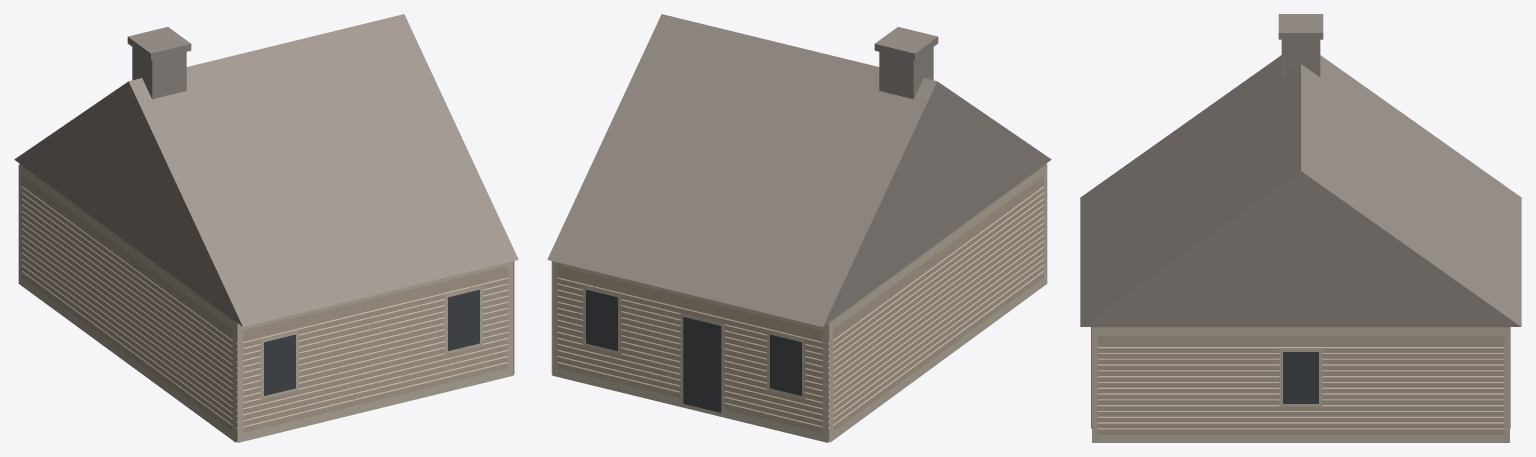
File: recon_1835_north_d5_019__inferred_1835.glb
The picture shows the model from 3 angles, left to right: view 1: azimuth 30°, elevation 25°; view 2: azimuth 150°, elevation 25°; view 3: azimuth 270°, elevation 25°; orthographic projection. The views are drawn at different scales.
Parts seen in each view (by area): view 1: recon_1835_north_d5_019__inferred_1835; view 2: recon_1835_north_d5_019__inferred_1835; view 3: recon_1835_north_d5_019__inferred_1835.
Part boxes in pixels (x1,y1,x2,y2): recon_1835_north_d5_019__inferred_1835: (14, 14, 518, 442); recon_1835_north_d5_019__inferred_1835: (547, 14, 1051, 442); recon_1835_north_d5_019__inferred_1835: (1080, 14, 1521, 442).
Bounding box in the file's own units: 6.79 × 7.33 × 9.64.
